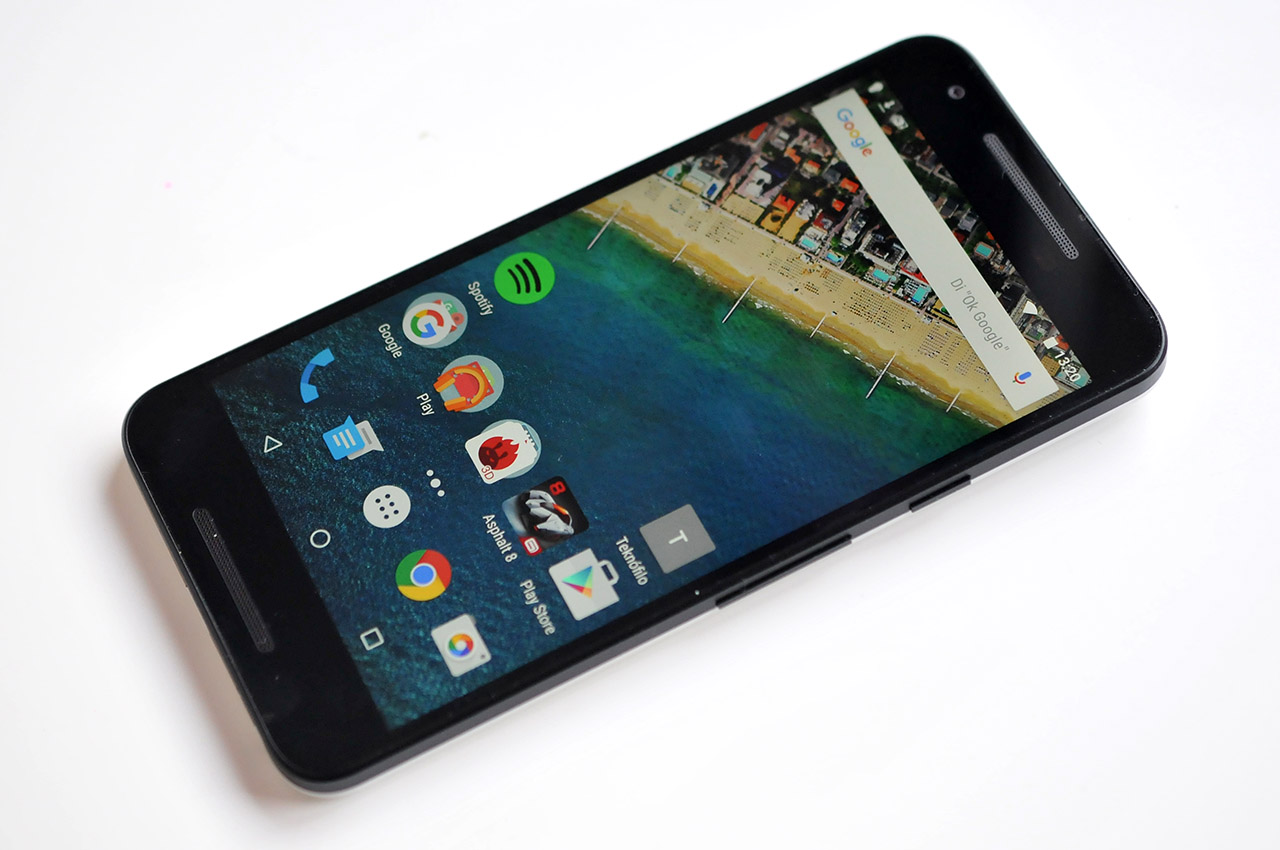smartphone: (120, 34, 1168, 794)
